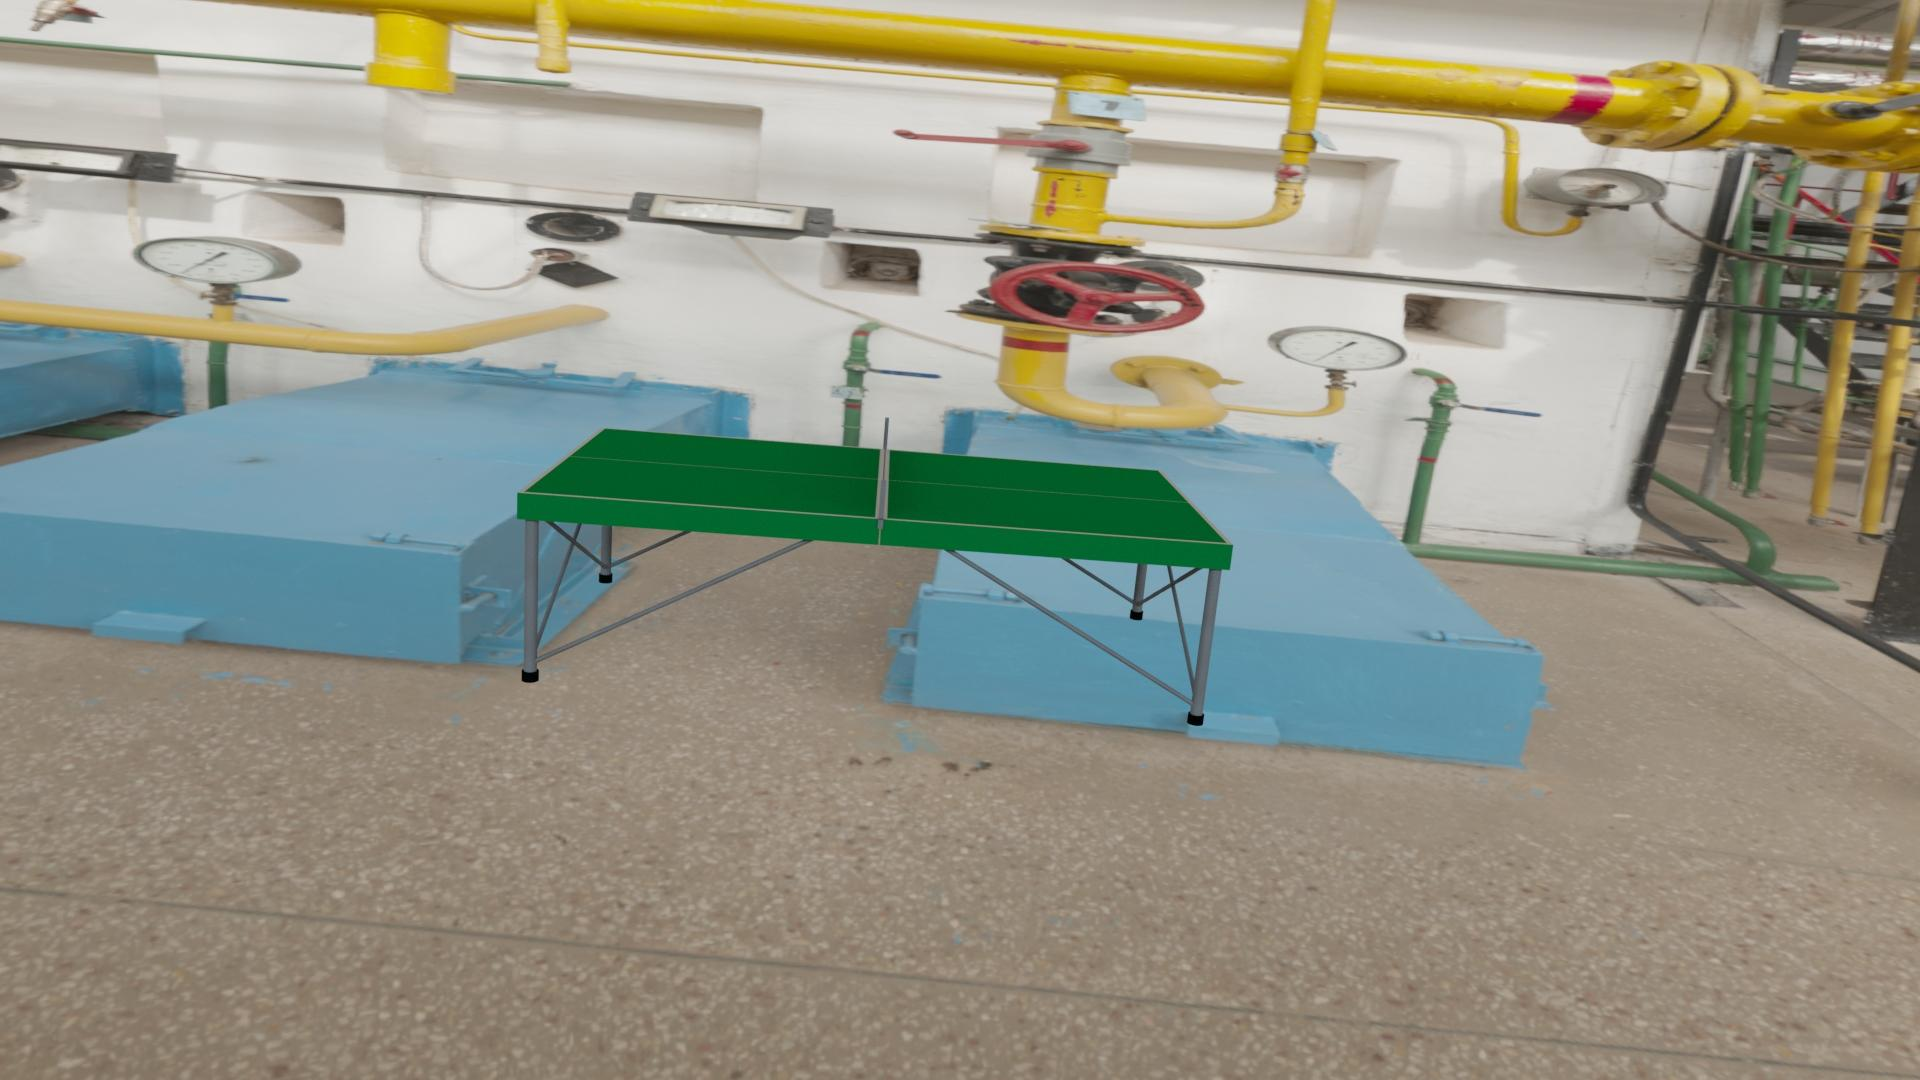table: (524, 429, 1228, 543)
